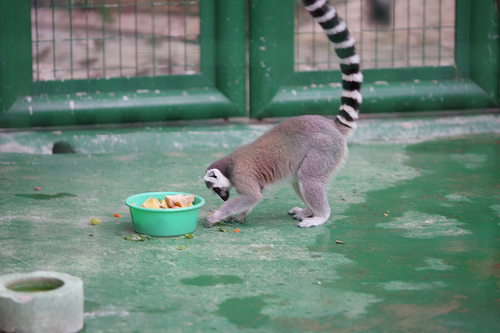cat: (202, 0, 363, 228)
